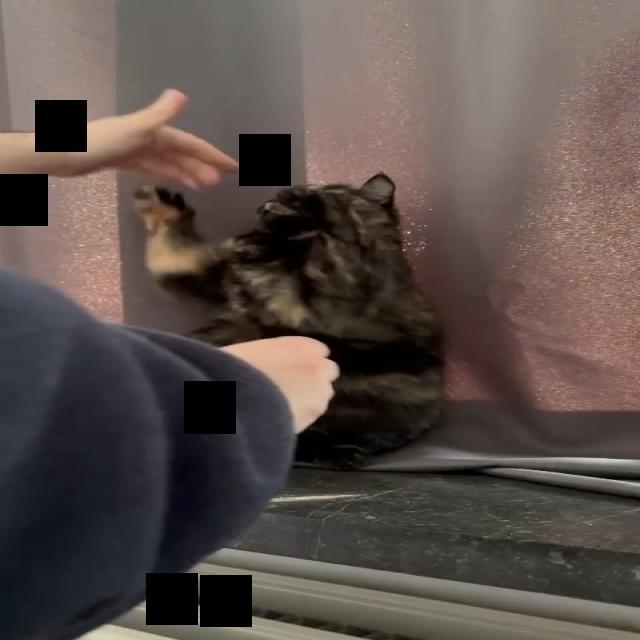authorized: (131, 171, 449, 470)
